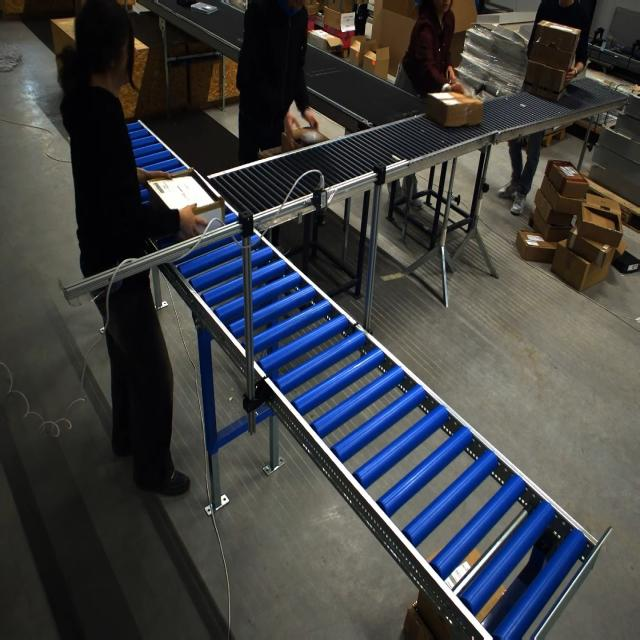box: (146, 174, 226, 228), (425, 90, 483, 129)
product: (190, 1, 218, 14)
